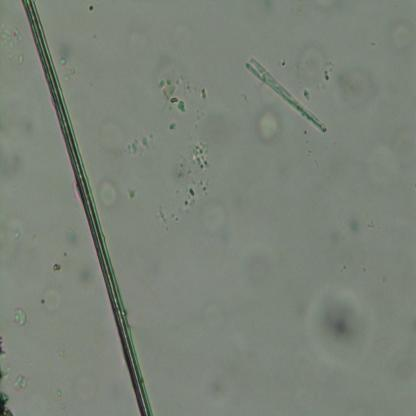Background material: (246, 56, 326, 133), (313, 282, 372, 370), (194, 330, 248, 409), (160, 142, 208, 230), (355, 134, 402, 188), (0, 112, 32, 178), (339, 73, 378, 121), (158, 74, 187, 132), (252, 104, 283, 144), (0, 336, 15, 415), (0, 18, 24, 66), (206, 200, 233, 240), (96, 175, 122, 211), (118, 131, 153, 157), (0, 212, 20, 257), (40, 283, 64, 314), (340, 220, 365, 245), (13, 309, 29, 327), (58, 47, 71, 69), (13, 373, 28, 392), (198, 86, 208, 103), (52, 261, 61, 275)
Microfibre: (22, 1, 153, 415)
